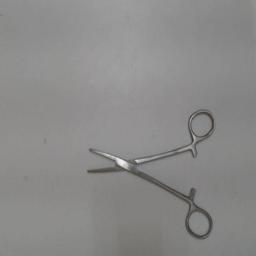Mayo Needle Holder: (83, 104, 219, 242)
